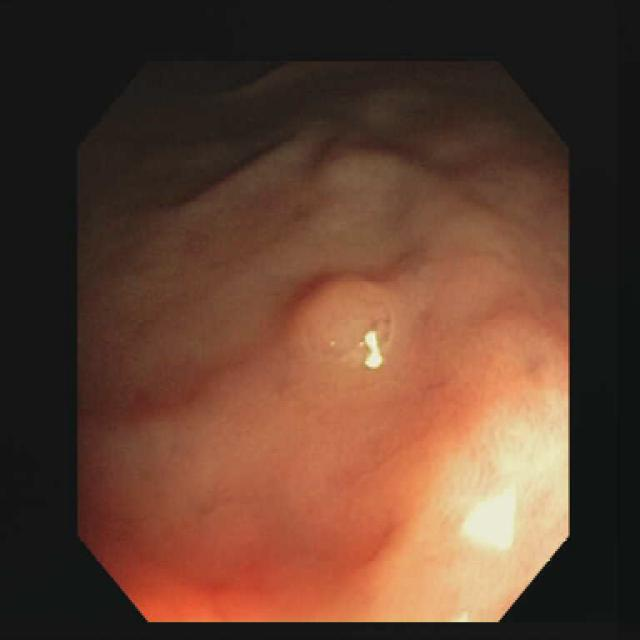tumor: (278, 278, 395, 367)
